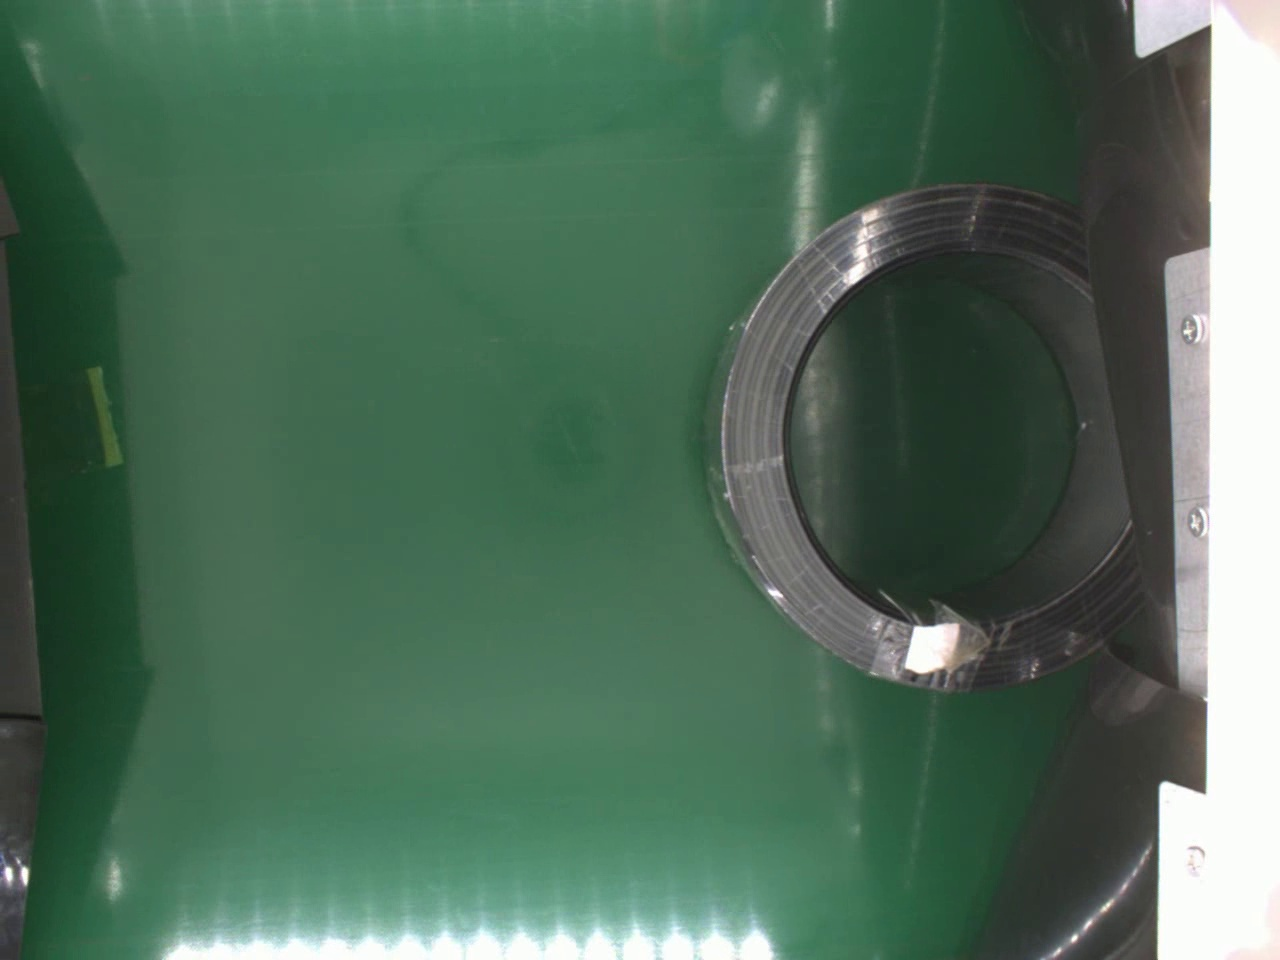black: (696, 179, 1149, 693)
